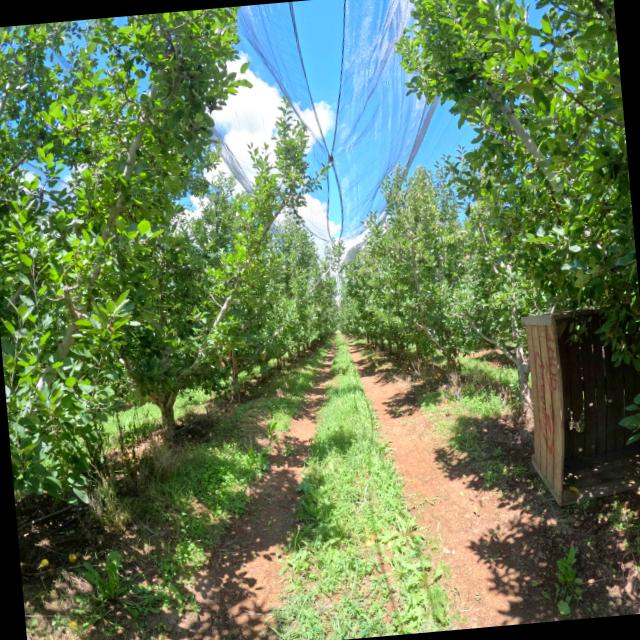-FireBlight-: (261, 354, 264, 360)
